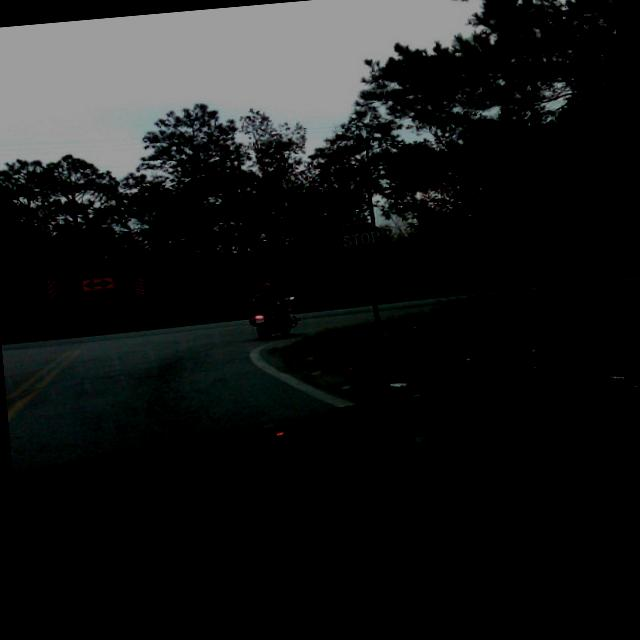Vehicle: (248, 304, 292, 341)
